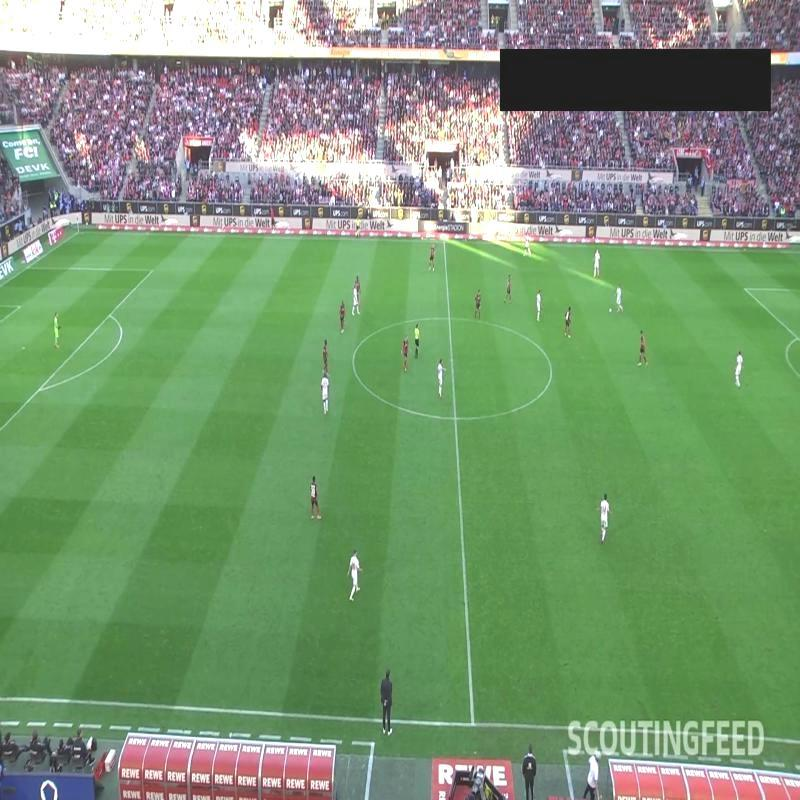1: (72, 226, 86, 240)
10: (104, 306, 118, 320), (794, 334, 800, 342)
11: (32, 381, 48, 399)
13: (438, 235, 452, 248)
14: (442, 310, 457, 324)
15: (447, 410, 462, 426)
16: (464, 714, 482, 735)
2: (20, 262, 34, 276)
7: (13, 299, 28, 313)
9: (734, 282, 758, 297), (146, 262, 160, 276)
c: (542, 362, 560, 380), (347, 353, 360, 367)
